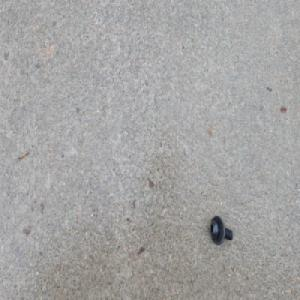BoltWasher: (209, 214, 233, 245)
